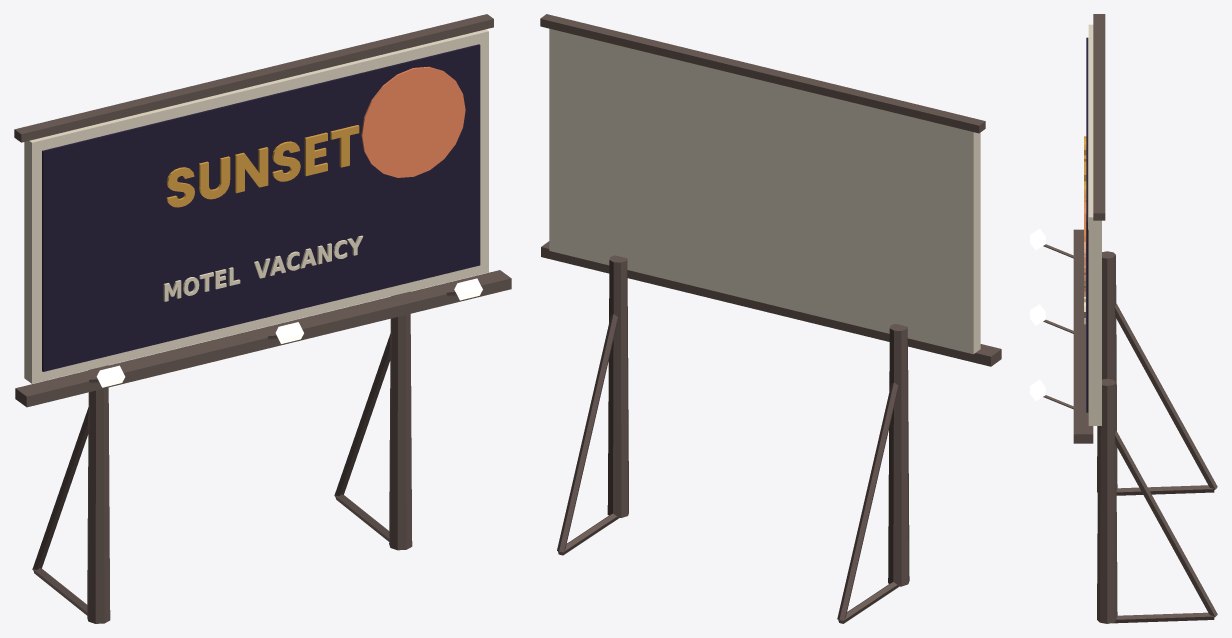
Rendered from billboard_3.glb.
The picture shows the model from 3 angles, left to right: view 1: azimuth 30°, elevation 25°; view 2: azimuth 150°, elevation 25°; view 3: azimuth 270°, elevation 25°; orthographic projection. The views are drawn at different scales.
Parts seen in each view (by area): view 1: billboard_3; view 2: billboard_3; view 3: billboard_3.
Part boxes in pixels (x1,y1,x2,y2): billboard_3: (14, 14, 511, 623); billboard_3: (540, 14, 1001, 623); billboard_3: (1030, 14, 1217, 623).
Bounding box in the file's own units: 12.2 × 12.38 × 4.73.
